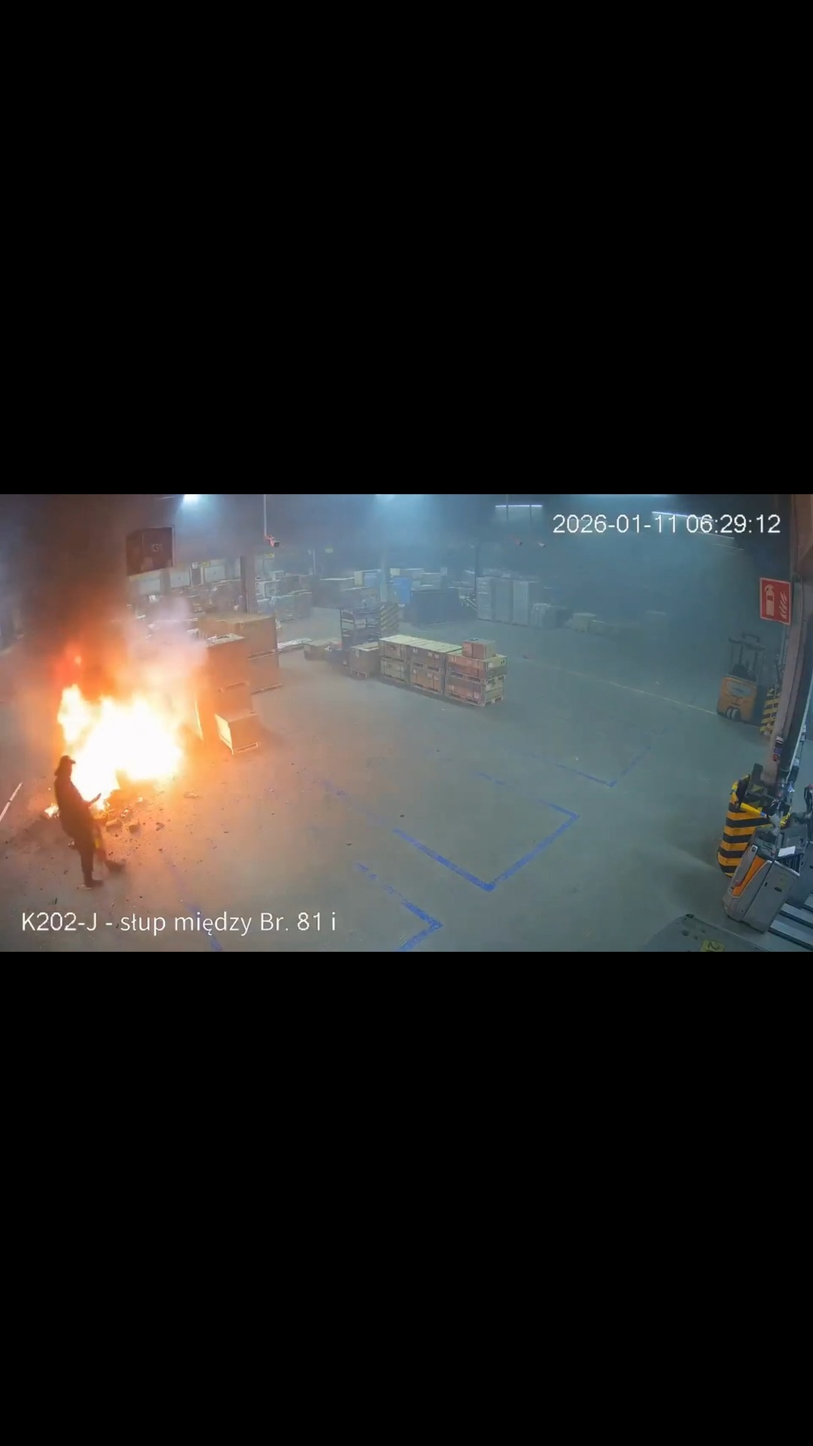fire: (34, 619, 226, 843)
